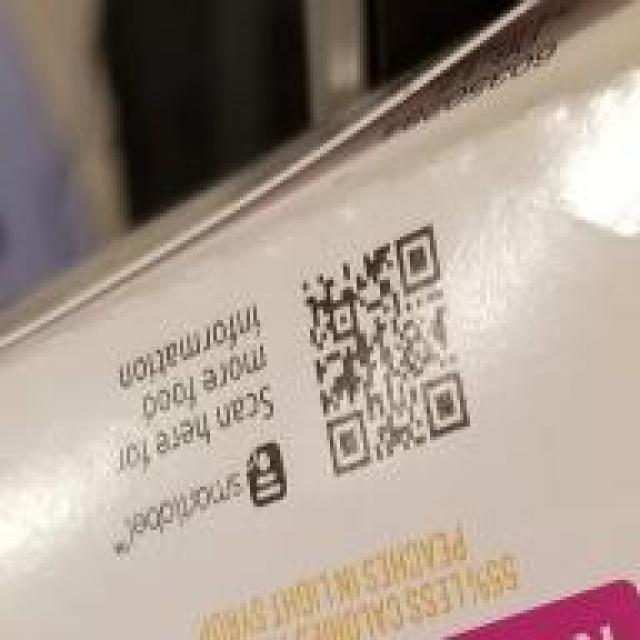qr_code: (298, 222, 470, 474)
